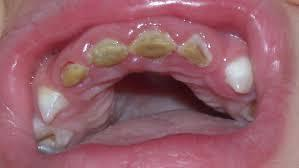cavity: (130, 27, 176, 64), (85, 37, 130, 67), (178, 31, 214, 68), (33, 120, 72, 154), (56, 59, 90, 88)
normal: (34, 87, 68, 123), (225, 55, 256, 93)
